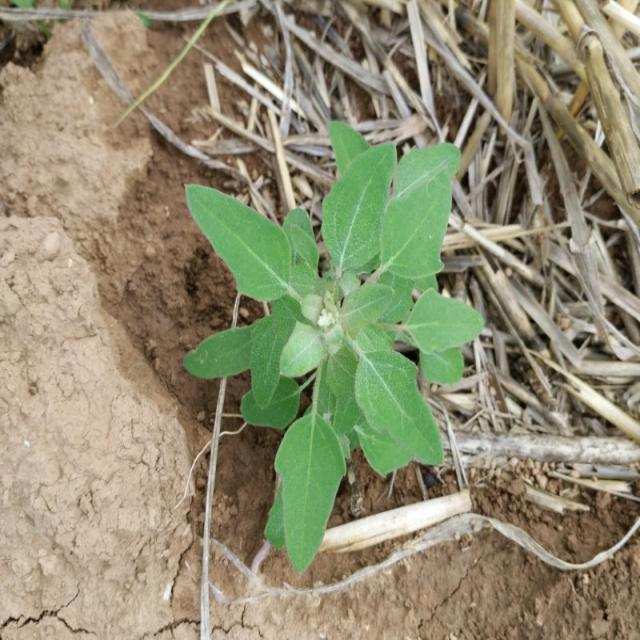ca: (181, 144, 480, 473)
